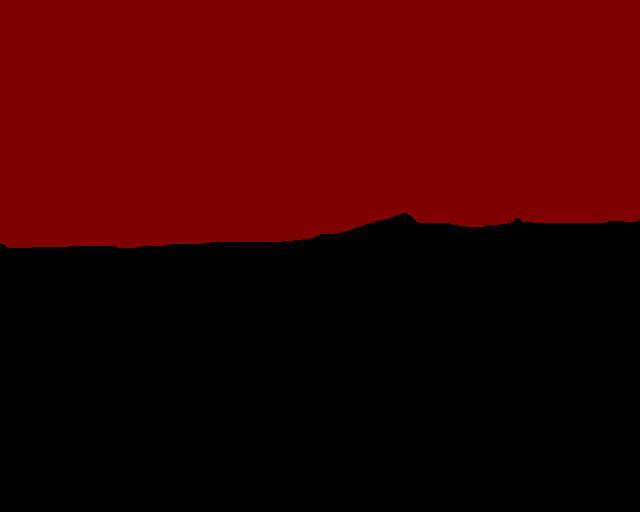Sky: (1, 1, 639, 248)
